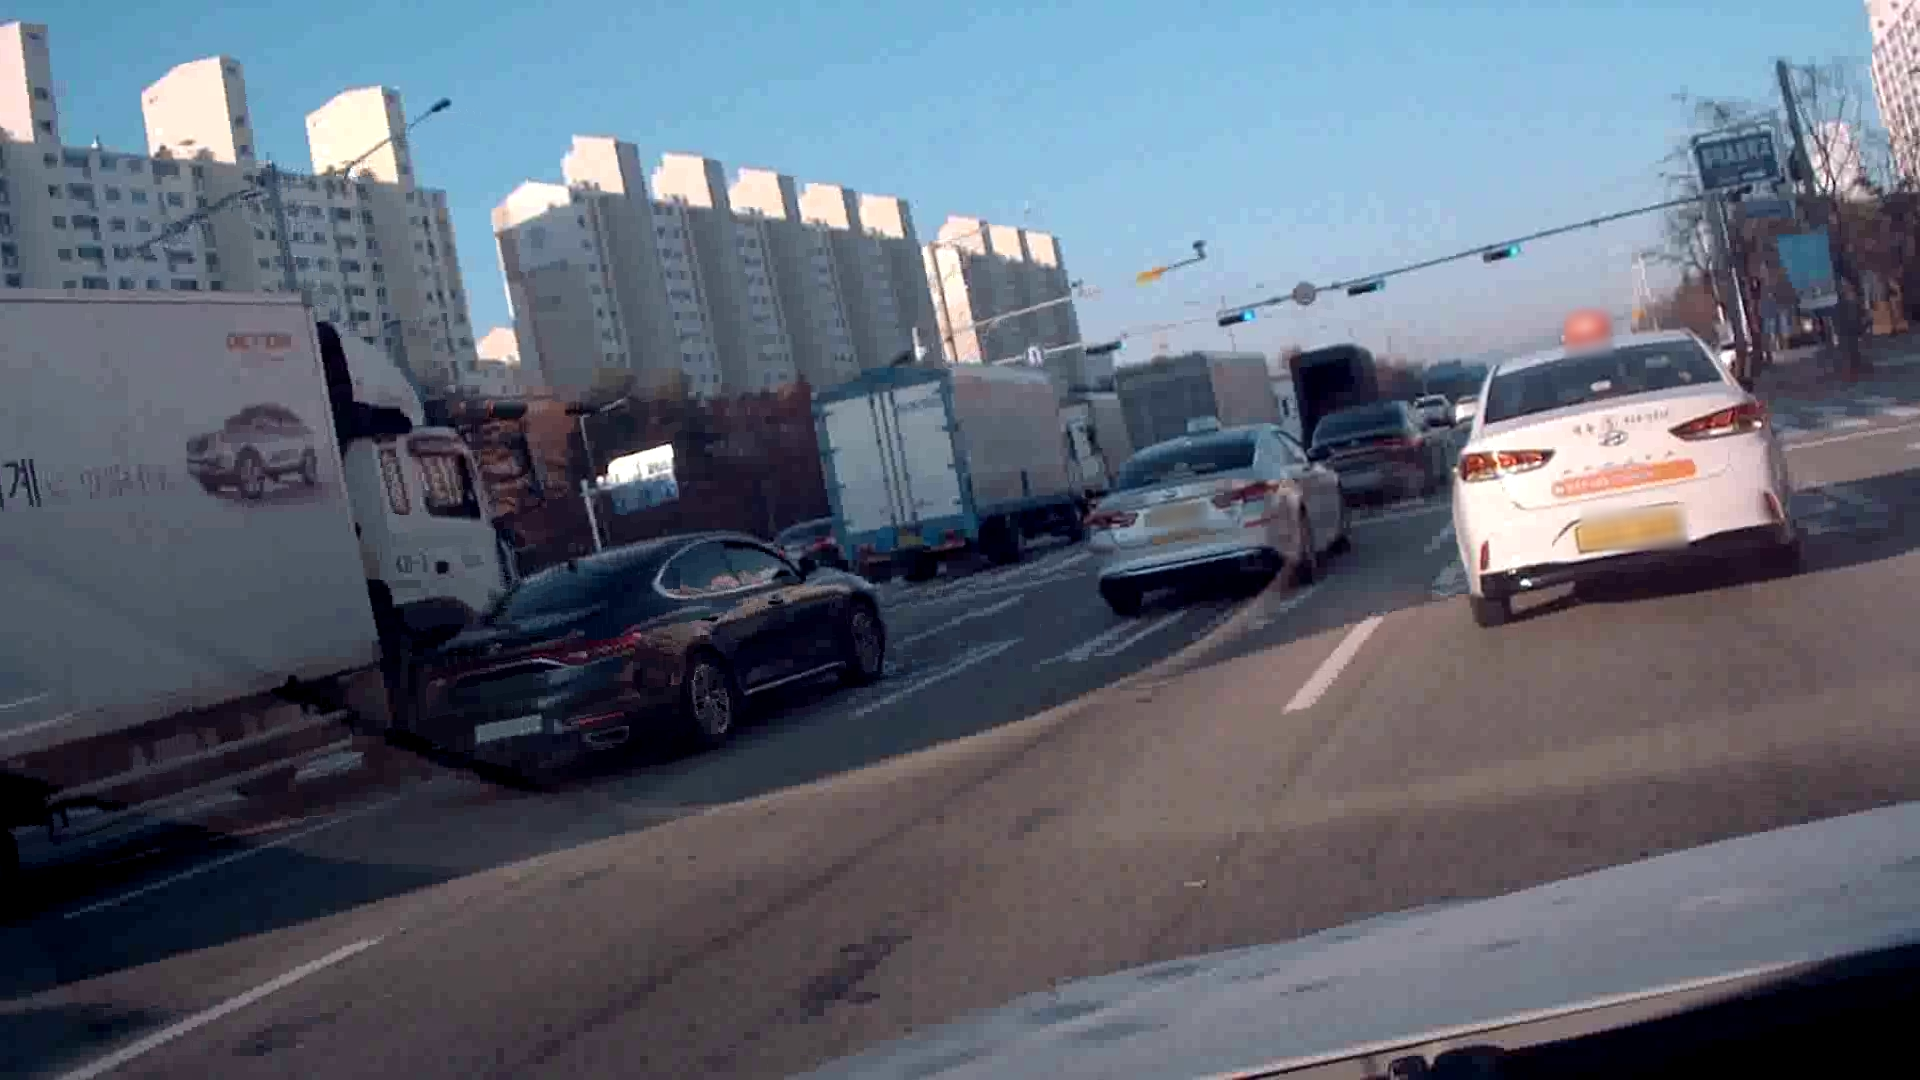trafficLight: (1216, 306, 1258, 327), (1482, 243, 1523, 264), (1348, 276, 1386, 298)
trafficSignCircle: (1290, 277, 1317, 306), (1023, 342, 1048, 368)
